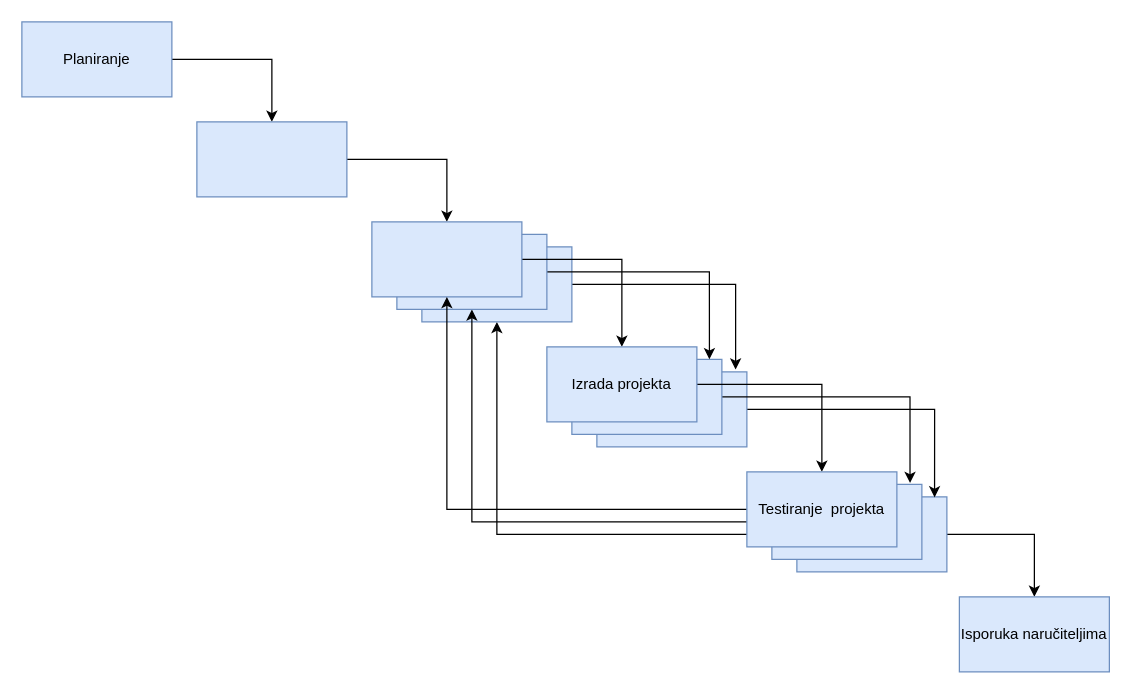
Image size: 1131x694. Some labels were removed from this diagram. The shapes that lost their labels are listed below. From the top down, each one's centre as x and y in pixels, then its label:
point (271, 159): Sastanak s naručiteljem i obrada zahtjeva
point (446, 259): Modeliranje projekta
